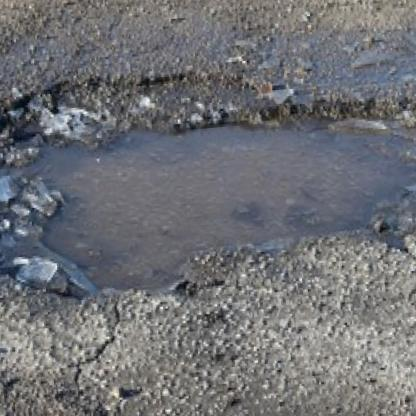pothole: (0, 35, 416, 317)
